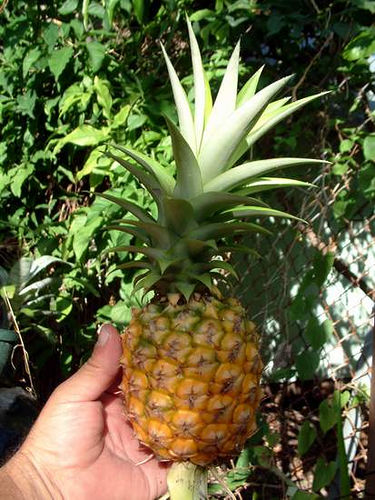pineapple: (83, 12, 332, 467)
